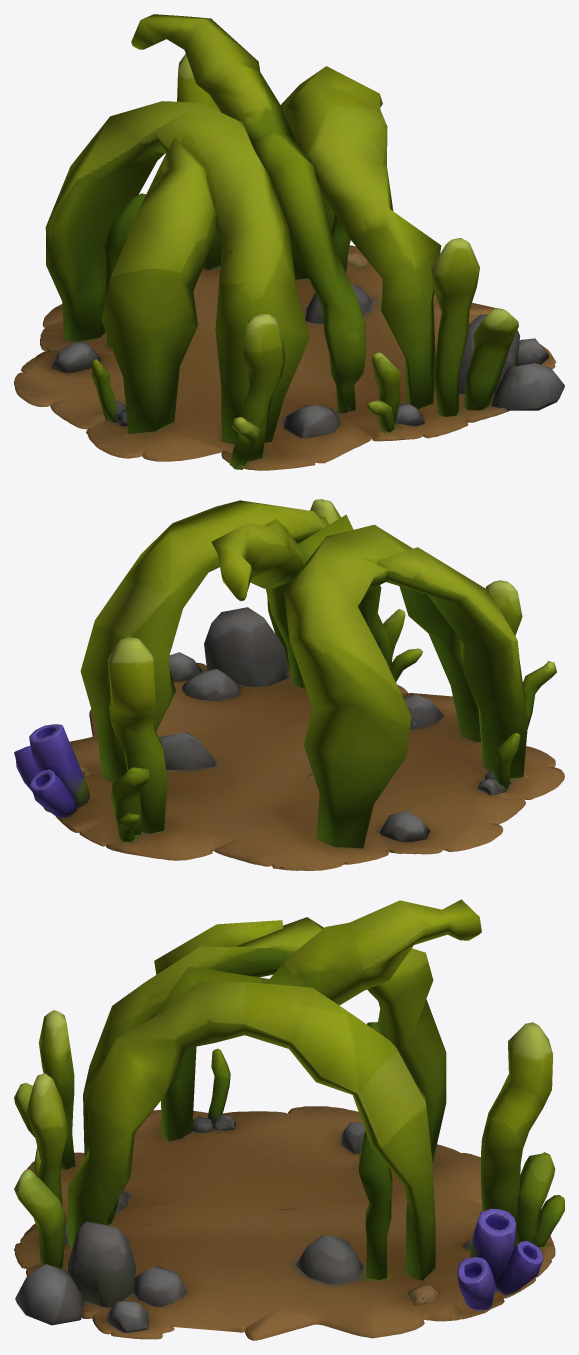
The model's file is kelp_home_clean.glb.
3 renders of one model, top to bottom at view 1: azimuth 30°, elevation 25°; view 2: azimuth 150°, elevation 25°; view 3: azimuth 270°, elevation 25°, orthographic. The views are drawn at different scales.
Parts seen in each view (by area): view 1: tripo_node_a4daa1d6-2a22-4aed-9ee7-69816deca540; view 2: tripo_node_a4daa1d6-2a22-4aed-9ee7-69816deca540; view 3: tripo_node_a4daa1d6-2a22-4aed-9ee7-69816deca540.
Part boxes in pixels (box(x1,y1,x2,y2)): tripo_node_a4daa1d6-2a22-4aed-9ee7-69816deca540: box(14, 14, 564, 470); tripo_node_a4daa1d6-2a22-4aed-9ee7-69816deca540: box(14, 499, 564, 870); tripo_node_a4daa1d6-2a22-4aed-9ee7-69816deca540: box(14, 899, 564, 1340).
Size of the model in its own units: 1 by 0.65 by 1.
1 material, 1 textured.
